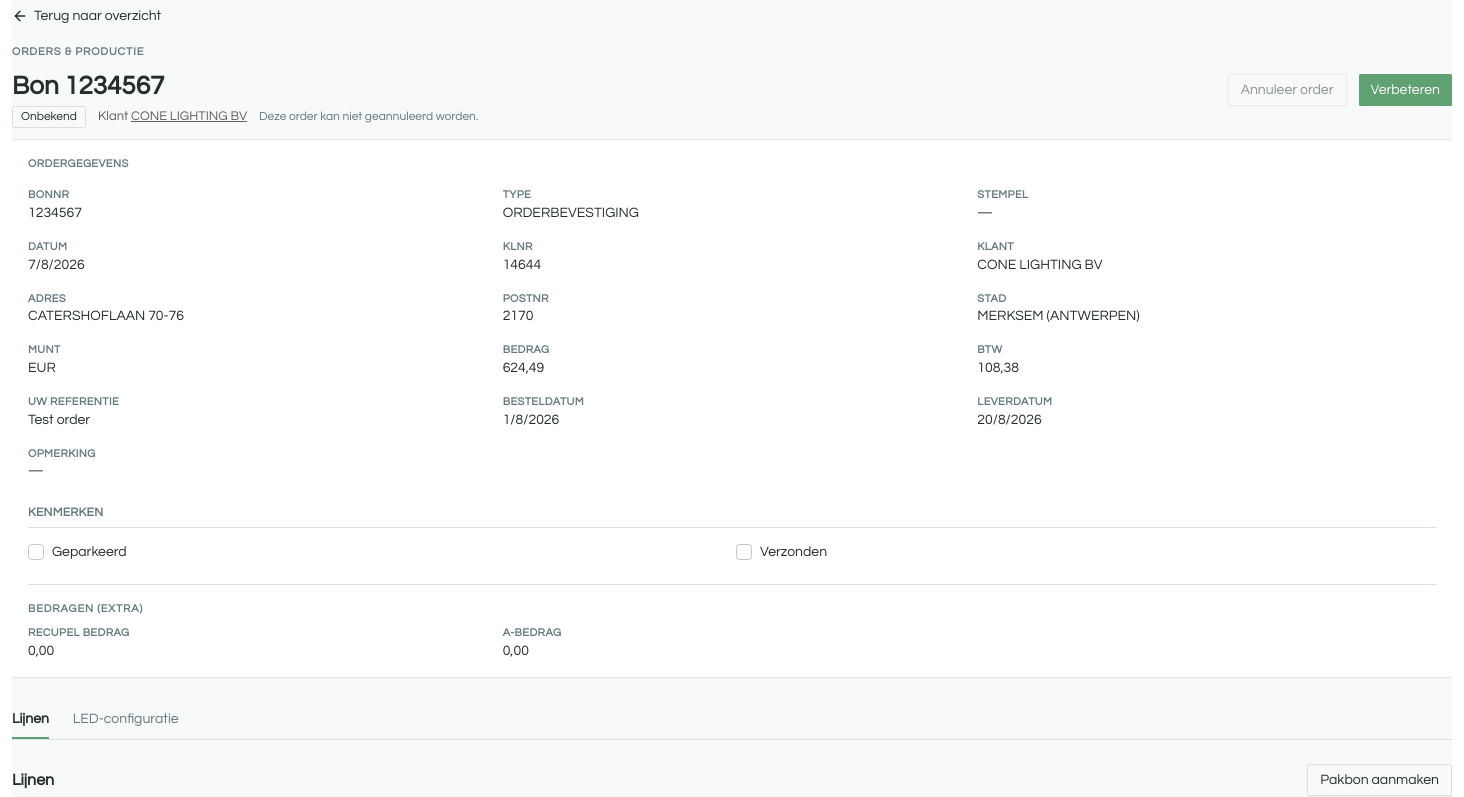
Test: BonDetailPage › switches to editable header fields after clicking 'Verbeteren', with bonnr/bedrag/btw staying read-only
What coordinates should you click on to do the following:
click the button "Verbeteren"
I would click on:
 (1405, 90)
Its box is 1358,74 -> 1452,106.
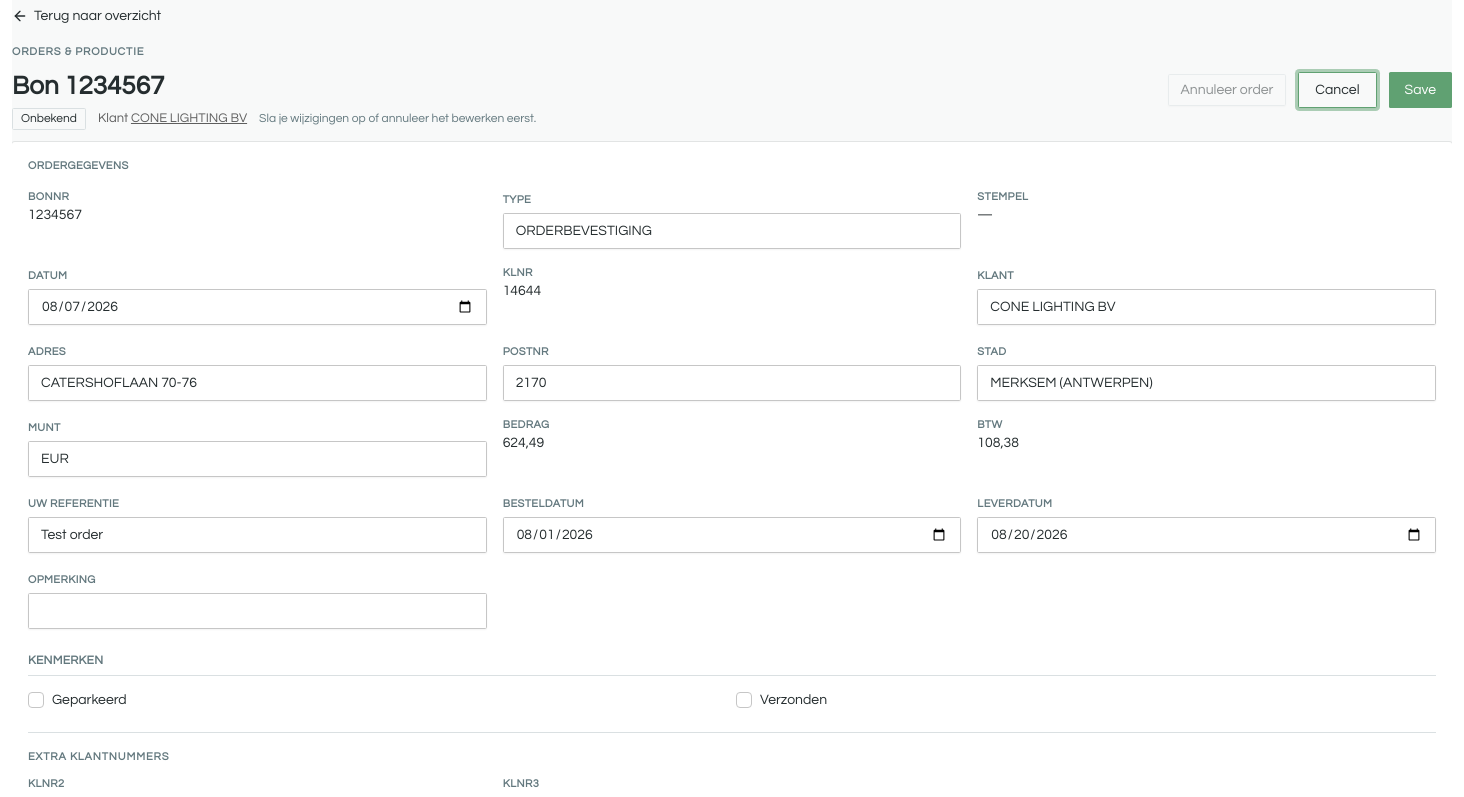
Now the field labelled "Klant" holds "CONE LIGHTING BV", box 977,289 -> 1436,325
Now the button "Save" is shown, box 1388,72 -> 1452,108
Now the button "Cancel" is shown, box 1298,72 -> 1376,108
